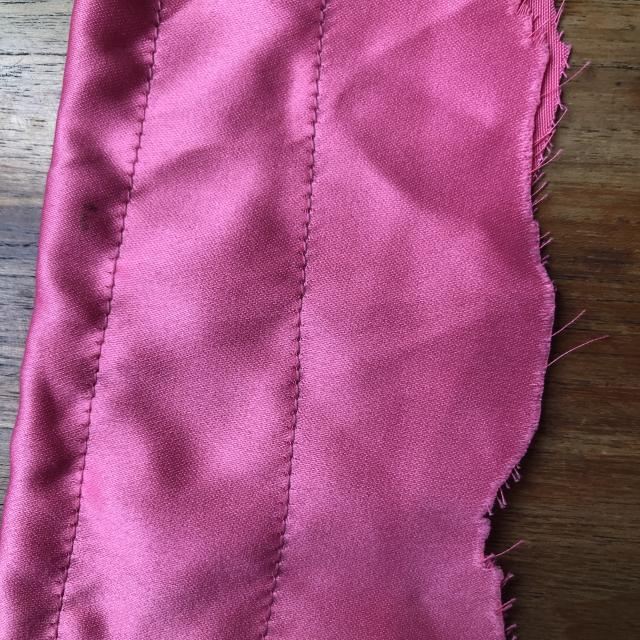good: (299, 113, 326, 239)
